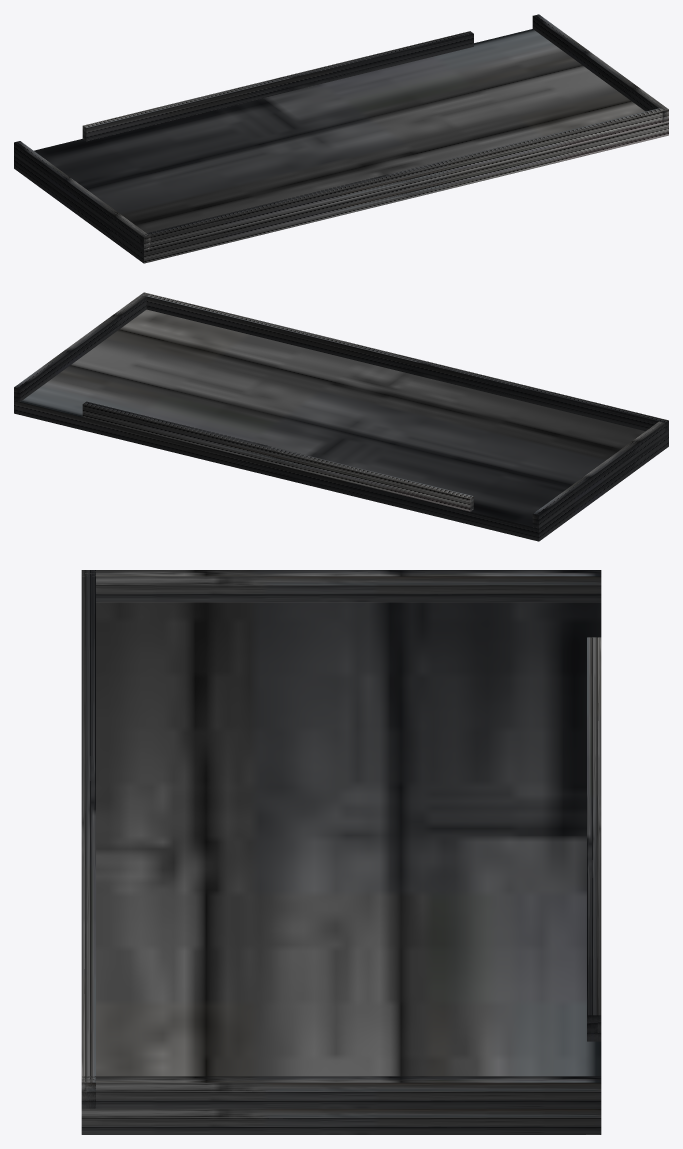
The model's file is T - Destructible 1.obj.
The picture shows the model from 3 angles, top to bottom: view 1: azimuth 30°, elevation 25°; view 2: azimuth 150°, elevation 25°; view 3: azimuth 270°, elevation 25°; orthographic projection. The views are drawn at different scales.
Parts seen in each view (by area): view 1: polySurface19; view 2: polySurface19; view 3: polySurface19.
Boxes of the visible parts, x1=… form: polySurface19: x1=14, y1=14, x2=668, y2=263; polySurface19: x1=14, y1=292, x2=668, y2=541; polySurface19: x1=81, y1=570, x2=601, y2=1134.
Bounding box in the file's own units: 2940 × 140 × 1260.
